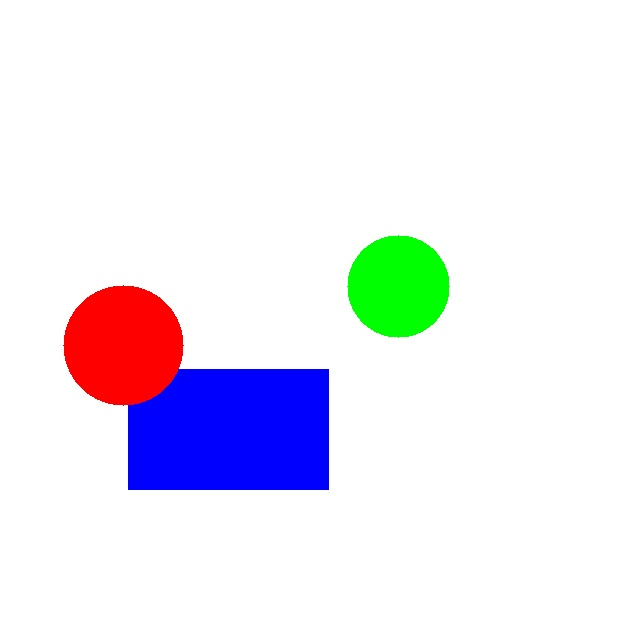cartao: (128, 369, 328, 489)
rosca_externa: (347, 235, 449, 337)
rosca_interna: (63, 285, 183, 405)
